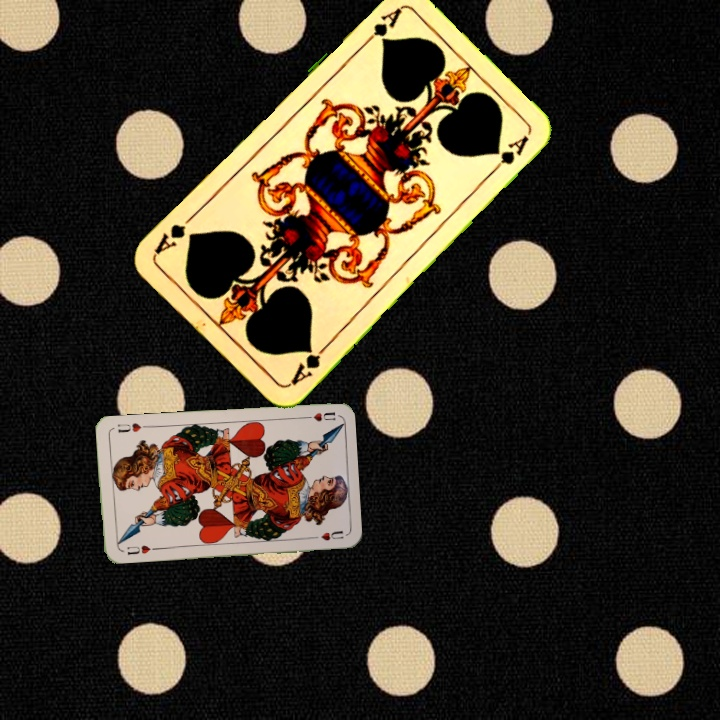GA: (356, 4, 404, 51), (285, 340, 330, 389)
HU: (298, 408, 338, 424), (123, 541, 153, 557)
